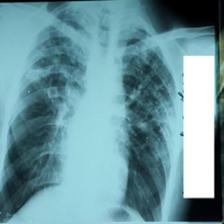tuberculosis: (0, 1, 180, 222)
